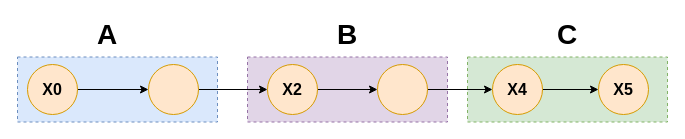
The diagram is 685 pixels wide and 139 high, and some of its shapes have lost their labels. The centre of each missing label's shape, as x and y in pixels:
X1: (x=173, y=89)
X3: (x=402, y=89)
